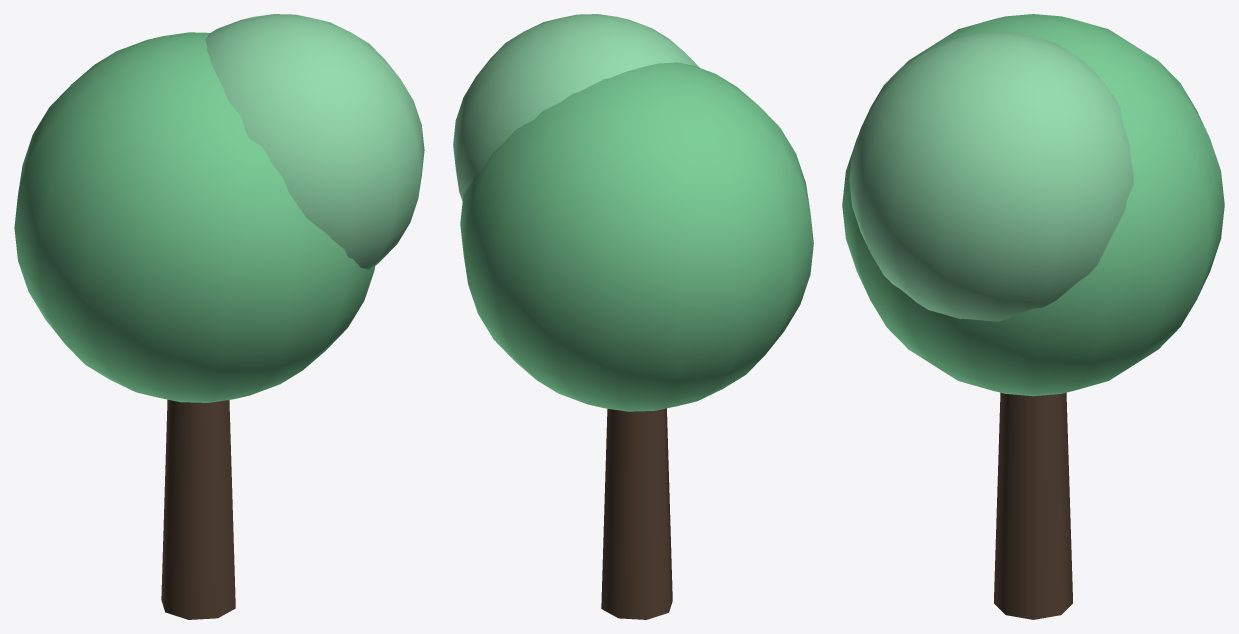
File: garden-tree.gltf
3 renders of one model, left to right at view 1: azimuth 30°, elevation 25°; view 2: azimuth 150°, elevation 25°; view 3: azimuth 270°, elevation 25°, orthographic. The views are drawn at different scales.
Size of the model in its own units: 2.95 by 4.6 by 2.7.
